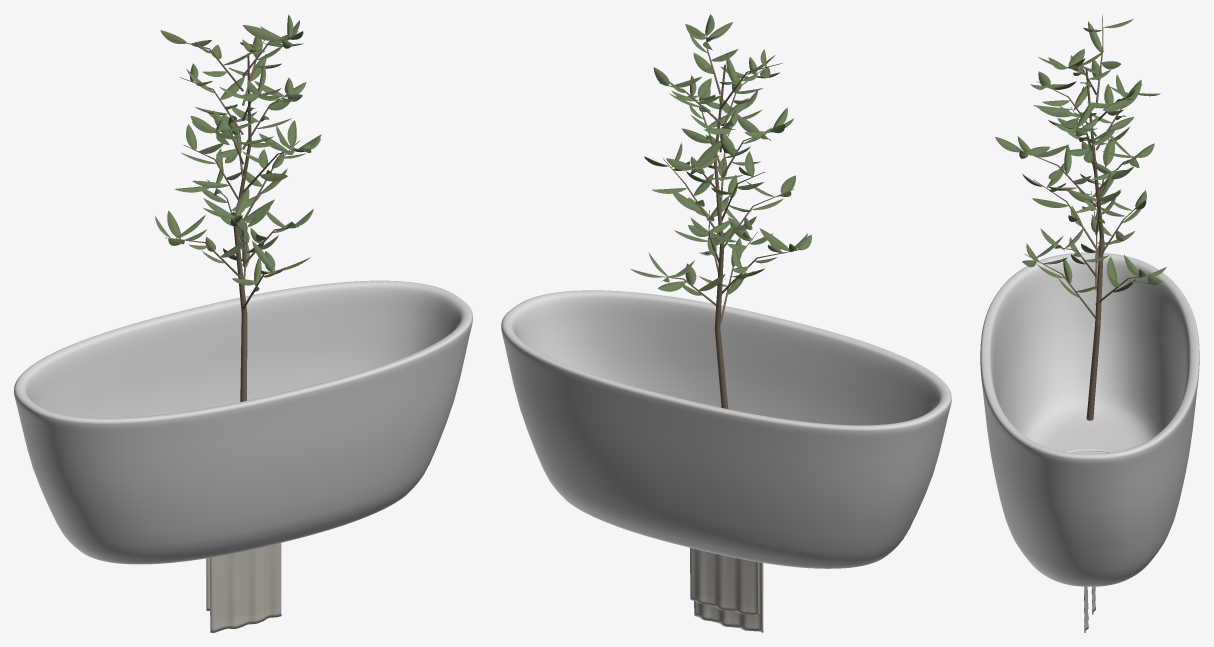
The model's file is showroom-fixtures.glb.
3 renders of one model, left to right at view 1: azimuth 30°, elevation 25°; view 2: azimuth 150°, elevation 25°; view 3: azimuth 270°, elevation 25°, orthographic. The views are drawn at different scales.
Parts seen in each view (by area): view 1: bath_soaking, olive_foliage, towel_drape, olive_branches; view 2: bath_soaking, olive_foliage, towel_drape, olive_branches; view 3: bath_soaking, olive_foliage, olive_branches.
Part boxes in pixels (x1,y1,x2,y2): bath_soaking: (14,280,472,564); olive_foliage: (155,14,321,294); towel_drape: (206,543,281,632); olive_branches: (165,38,304,401); bath_soaking: (501,290,951,568); olive_foliage: (630,14,811,295); towel_drape: (690,548,763,632); olive_branches: (659,33,801,408); bath_soaking: (980,252,1199,586); olive_foliage: (995,19,1166,297); olive_branches: (1016,14,1151,420).
Size of the model in its own units: 1.55 by 2.04 by 0.7.
